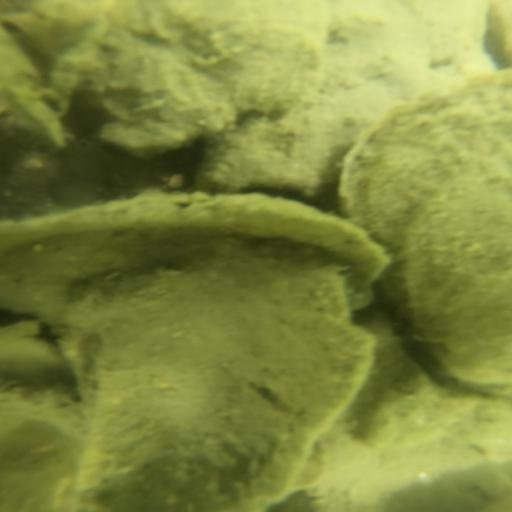Oyster-Closed: (62, 249, 375, 512), (331, 69, 509, 389), (1, 187, 384, 331), (79, 2, 331, 158)
